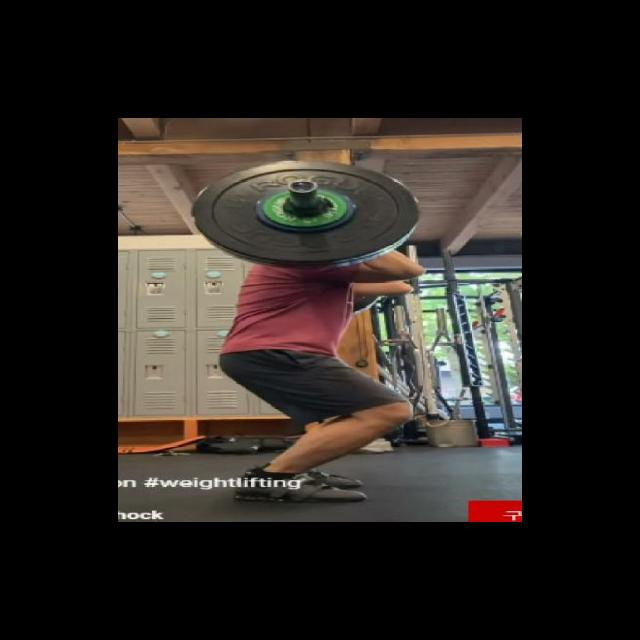barbell: (183, 157, 438, 273)
